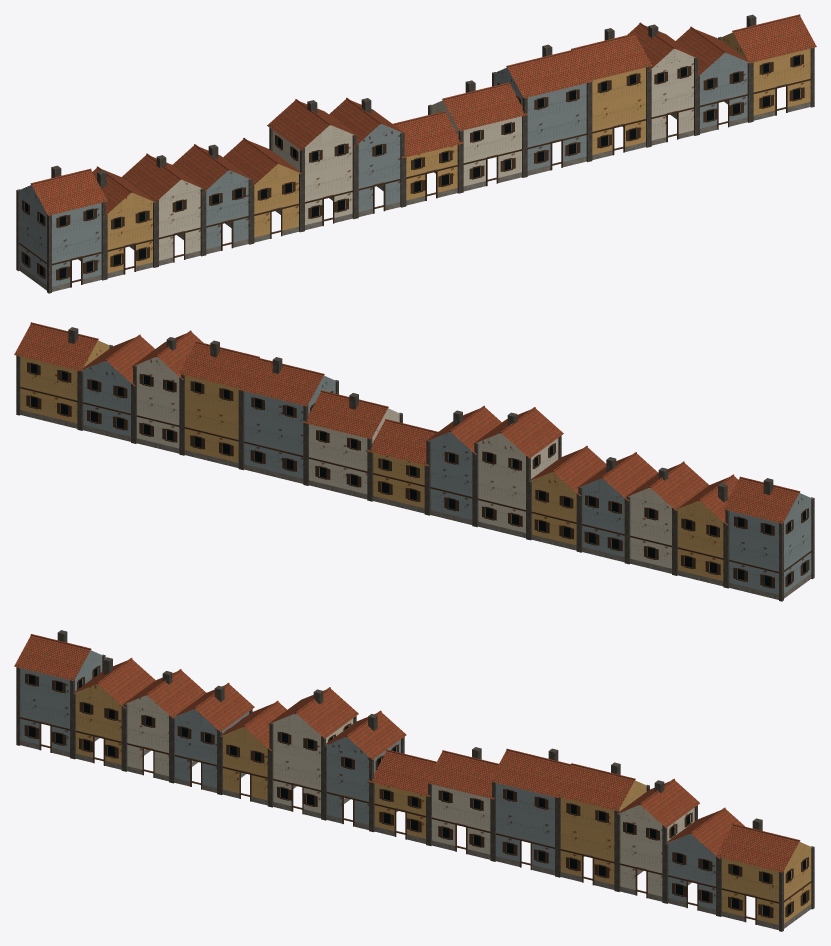
File: SM_Art_TownRow_8800N.gltf
The picture shows the model from 3 angles, top to bottom: view 1: azimuth 30°, elevation 25°; view 2: azimuth 150°, elevation 25°; view 3: azimuth 330°, elevation 25°; orthographic projection.
Parts seen in each view (by area): view 1: SM_Art_TownRow_8800N; view 2: SM_Art_TownRow_8800N; view 3: SM_Art_TownRow_8800N.
Boxes of the visible parts, <box> form: SM_Art_TownRow_8800N: <box>16,14,816,293</box>; SM_Art_TownRow_8800N: <box>14,322,814,601</box>; SM_Art_TownRow_8800N: <box>14,630,814,931</box>.
Bounding box in the file's own units: 86.81 × 11.71 × 6.7.
Materials: 8 (7 with a texture image).
